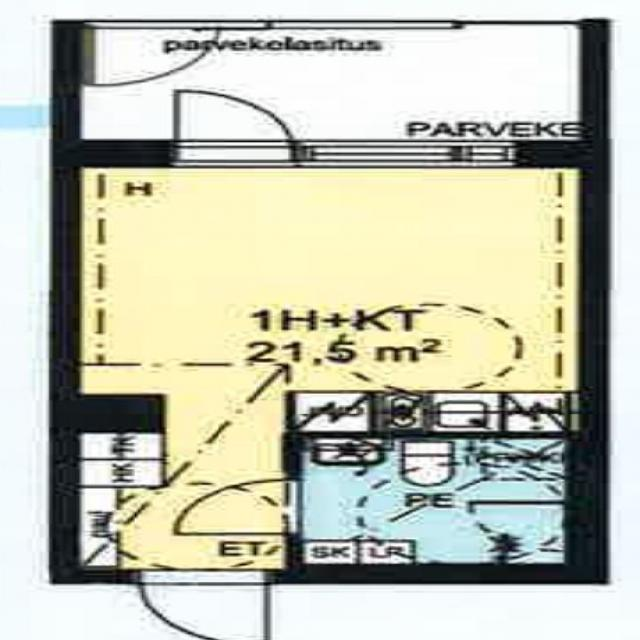door: (174, 82, 291, 166), (139, 569, 266, 640), (176, 478, 300, 534)
